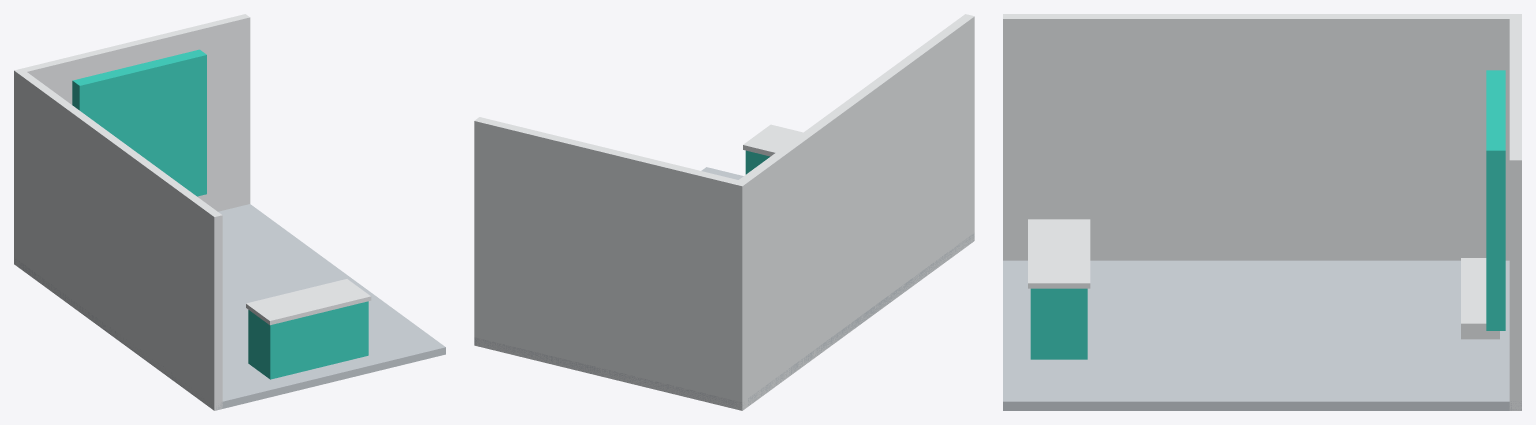
3 renders of one model, left to right at view 1: azimuth 30°, elevation 25°; view 2: azimuth 150°, elevation 25°; view 3: azimuth 270°, elevation 25°, orthographic. The views are drawn at different scales.
Parts seen in each view (by area): view 1: Exhibition Booth Concept; view 2: Exhibition Booth Concept; view 3: Exhibition Booth Concept.
Part boxes in pixels (x1,y1,x2,y2): Exhibition Booth Concept: (14, 14, 445, 410); Exhibition Booth Concept: (474, 14, 974, 410); Exhibition Booth Concept: (1003, 14, 1521, 410).
Size of the model in its own units: 4 by 3.2 by 6.
